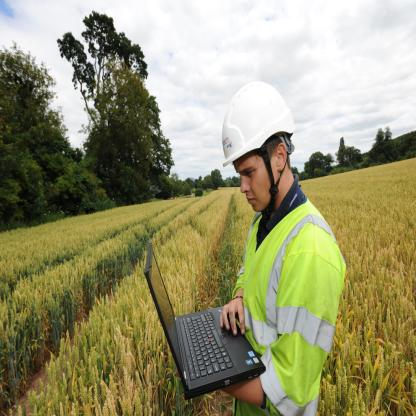Helmet: (226, 82, 297, 215)
